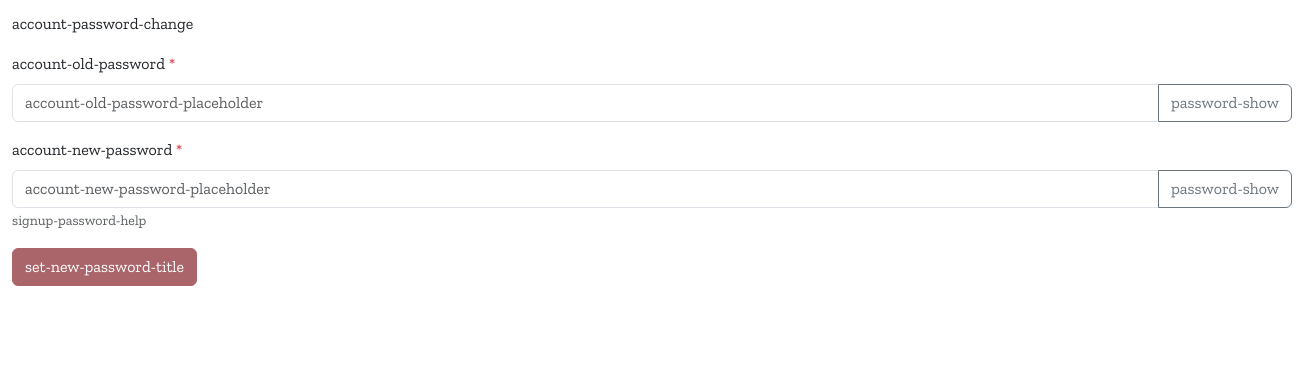
Test case: AccountSetNewPasswordTab › renders and submits the form when the form is valid but receives UserNotFoundException
The image size is (1304, 377).
Note: Fill the form
Type "Password123@" into the password field with placeholder "account-old-password-placeholder".
click(586, 103); type("Password123@")  # box [12,84,1159,122]
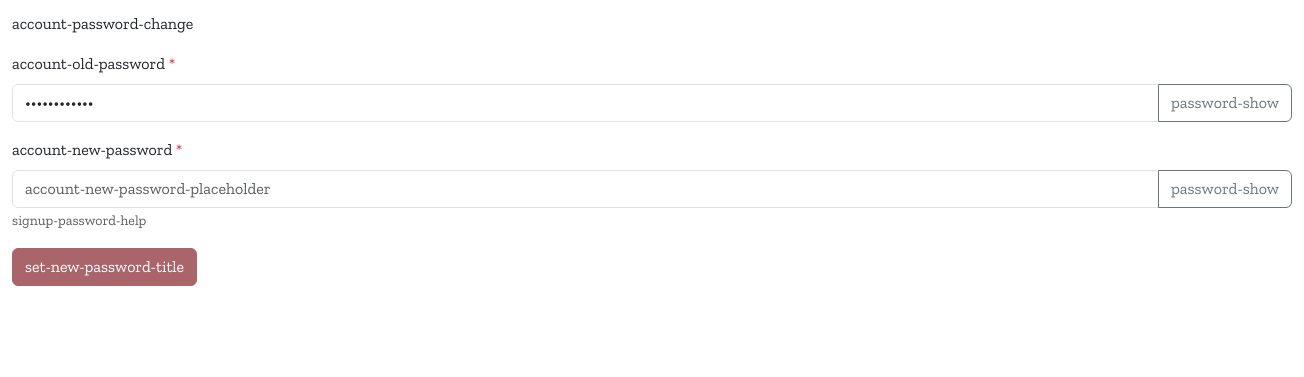
Type "Password123@" into the password field with placeholder "account-new-password-placeholder".
click(586, 189); type("Password123@")  # box [12,170,1159,208]
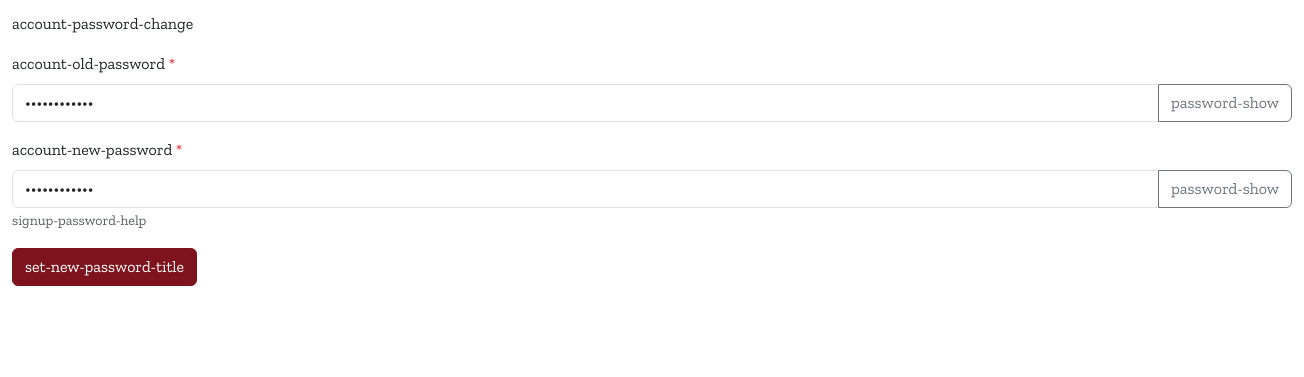
Click the button "set-new-password-title".
click(105, 267)  # box [12,248,197,286]
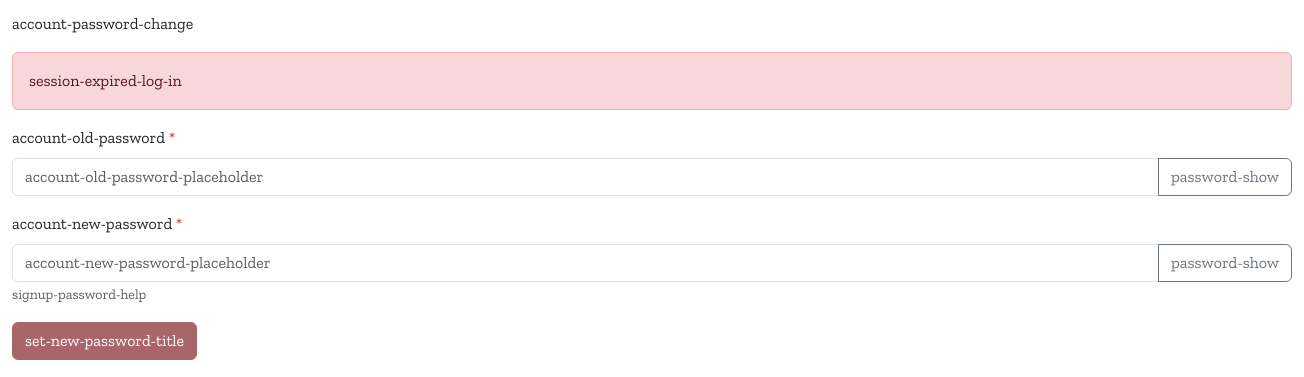
expect the text "session-expired-log-in" is shown: met, box [12,52,1292,110]
expect the password field with placeholder "account-old-password-placeholder" is empty: met, box [12,158,1159,196]
expect the password field with placeholder "account-new-password-placeholder" is empty: met, box [12,244,1159,282]
